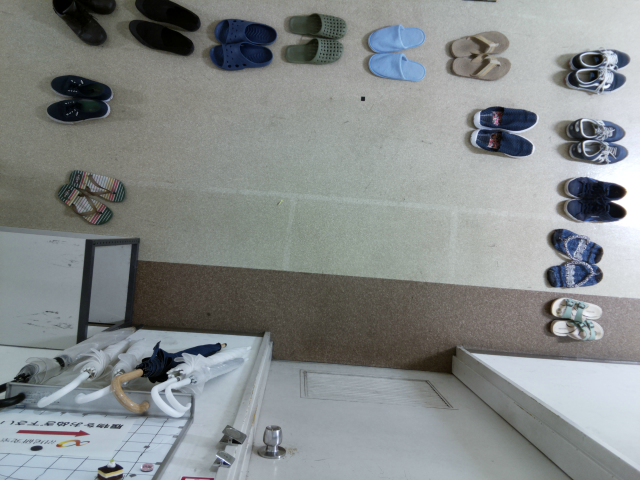Copy of Copy of Copy of Copy of Copy of Copy of Copy of Copy of Copy of Copy of: (541, 223, 612, 267), (462, 127, 543, 163), (554, 191, 634, 227), (538, 254, 608, 295), (462, 99, 543, 134), (557, 39, 638, 74), (554, 62, 635, 97), (554, 111, 635, 146), (554, 170, 635, 205), (556, 134, 636, 169), (443, 51, 517, 86), (360, 19, 435, 53), (362, 51, 437, 84), (439, 25, 514, 58), (278, 9, 352, 39), (274, 36, 348, 66), (541, 290, 608, 323), (544, 313, 610, 346)
Copy of Copy of Copy of Copy of Copy of Copy of Copy of Copy of Copy of shoe: (206, 15, 280, 45)
Copy of Copy of Copy of Copy of Copy of Copy of Copy of Copy of shoe: (203, 40, 276, 72)
Copy of Copy of Copy of Copy of Copy of Copy of Copy of shoe: (72, 1, 125, 17)
Copy of Copy of Copy of Copy of Copy of Copy of shoe: (45, 1, 111, 48)
Copy of Copy of Copy of Copy of Copy of shoe: (130, 1, 208, 34)
Copy of Copy of Copy of Copy of Copy of umbrella: (1, 323, 143, 412)
Copy of Copy of Copy of Copy of shoe: (123, 15, 196, 57)
Copy of Copy of Copy of Copy of umbrella: (36, 324, 155, 410)
Copy of Copy of Copy of shoe: (44, 68, 119, 105)
Copy of Copy of Copy of umbrella: (75, 327, 164, 412)
Copy of Copy of shoe: (41, 92, 116, 129)
Copy of Copy of umbrella: (109, 335, 230, 422)
Copy of shoe: (63, 162, 132, 208)
Copy of umbrella: (165, 348, 260, 422)
shoe: (53, 182, 115, 229)
umbrella: (146, 336, 258, 424)
